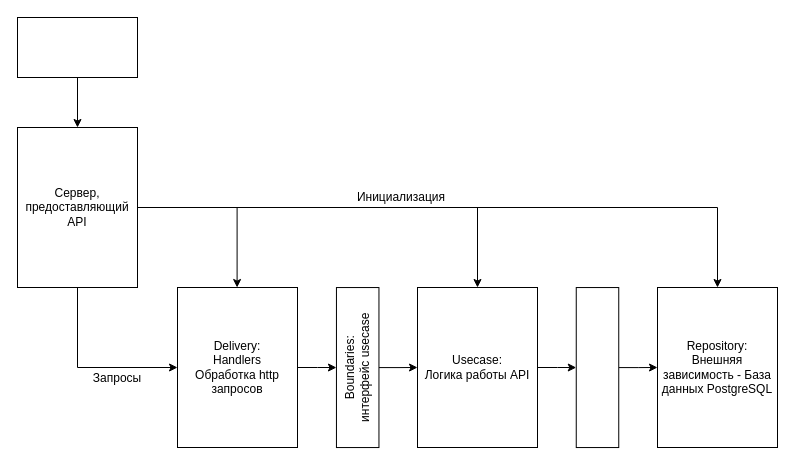
Image size: 795x466. Some labels were removed from this diagram. Here are the shapes that lost their labels. From the top down, the box of each, then its label:
(16, 16, 138, 78): Клиент
(575, 287, 619, 448): Boundaries: интерфейс repository
